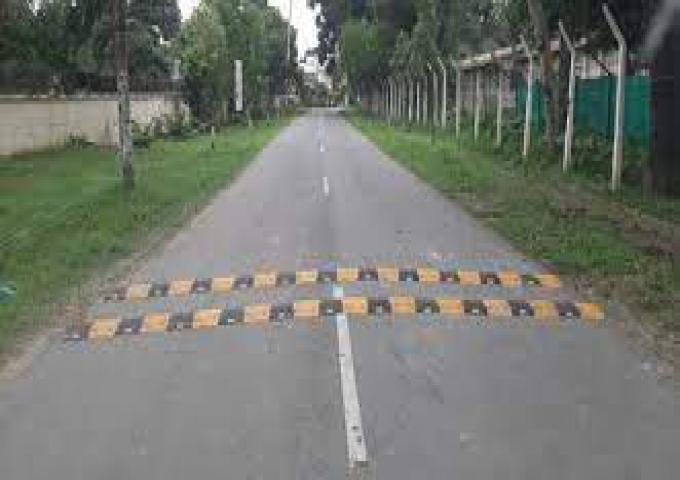speedbreaker: (76, 260, 606, 343)
